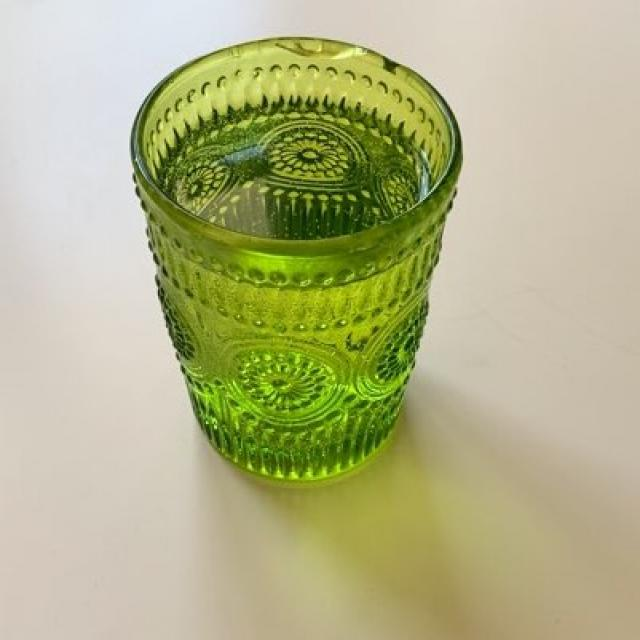water: (142, 87, 438, 496)
